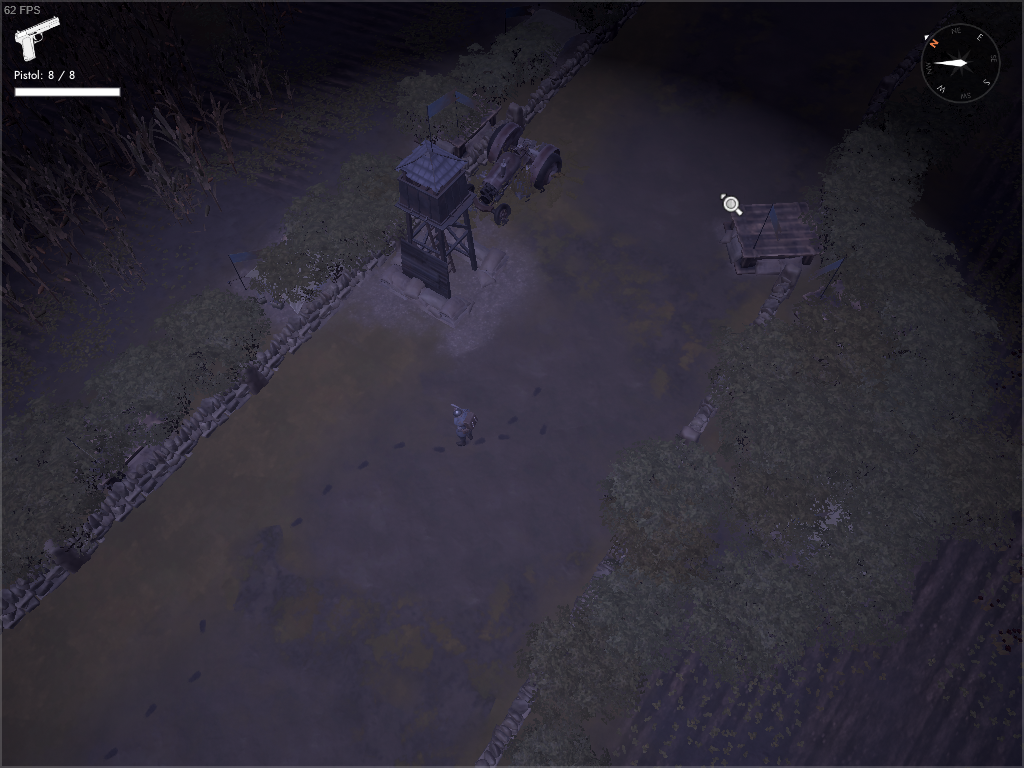foxhole: (758, 440, 901, 578), (222, 207, 357, 326)
pillbox: (792, 252, 900, 354), (718, 187, 826, 281), (410, 76, 505, 177)
player: (444, 399, 482, 449)
watchtower: (367, 92, 514, 331)
